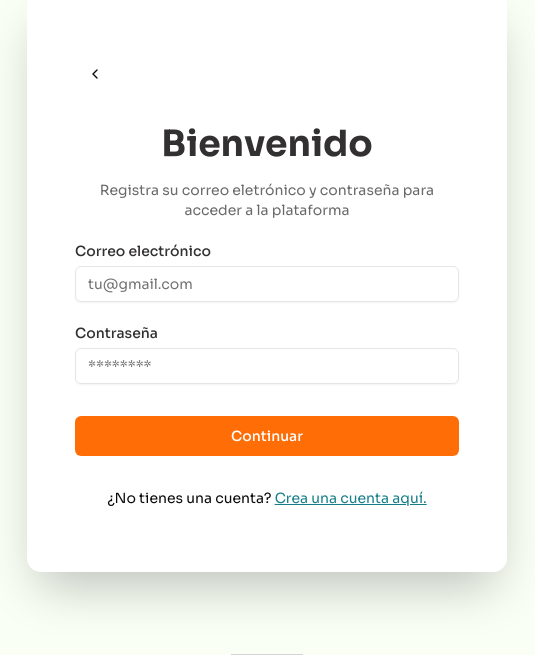
Scenario: LoginPage › muestra error de validación con correo inválido
Type "correo-invalido" into the field labelled "Correo electrónico" at coordinates (267, 284), box [75, 266, 459, 302]
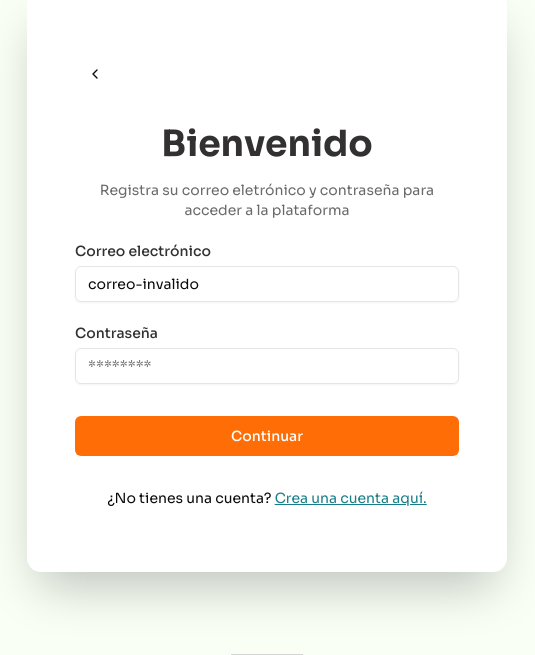
Click the button "Continuar" at coordinates (267, 436), box [75, 416, 459, 456]
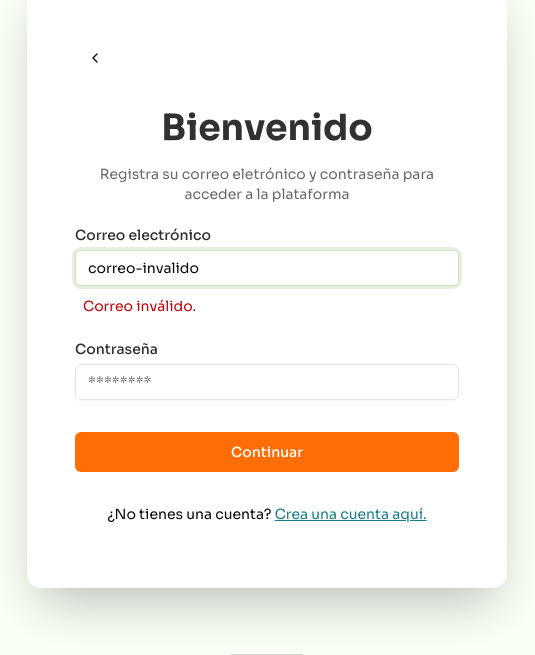
Now the text "Correo inválido." is shown, box [83, 297, 196, 315]
